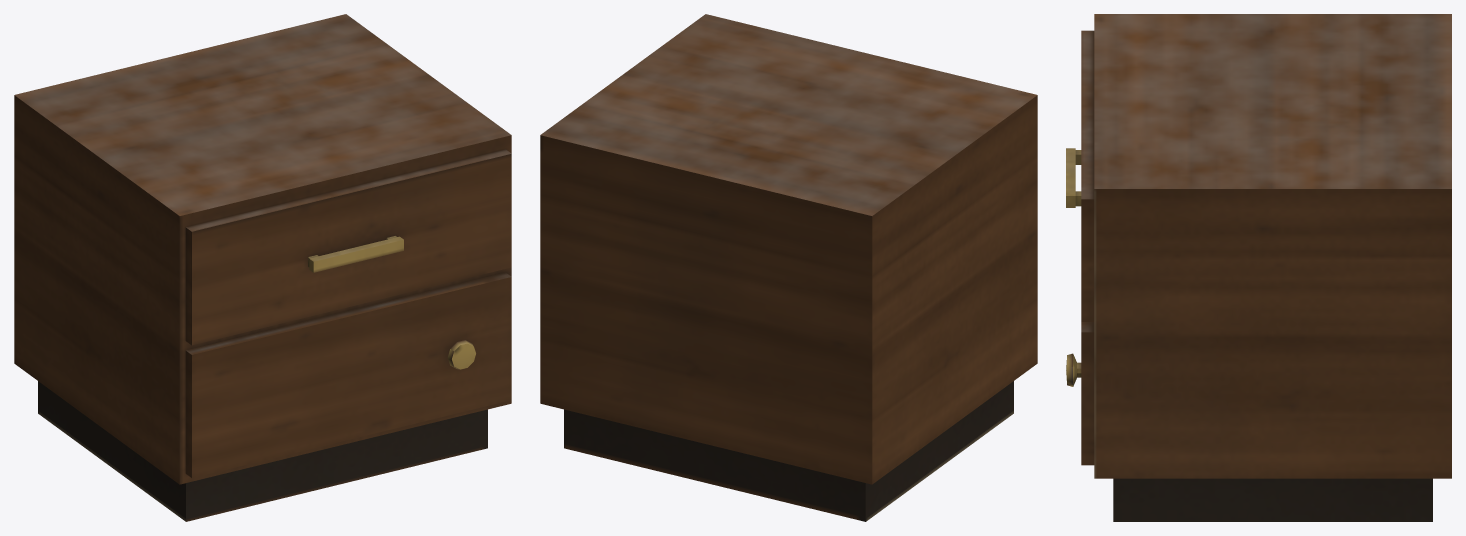
Rendered from H_Nightstand.fbx.
3 views of the same model, side by side, from view 1: azimuth 30°, elevation 25°; view 2: azimuth 150°, elevation 25°; view 3: azimuth 270°, elevation 25° (orthographic). The views are drawn at different scales.
Visible parts, largest first — view 1: H_Nightstand; view 2: H_Nightstand; view 3: H_Nightstand.
Part boxes in pixels (bbox=[...]): H_Nightstand: bbox=[14, 14, 511, 521]; H_Nightstand: bbox=[540, 14, 1037, 521]; H_Nightstand: bbox=[1066, 14, 1451, 521].
Bounding box in the file's own units: 220 × 200 × 205.
1 material, 1 textured.
